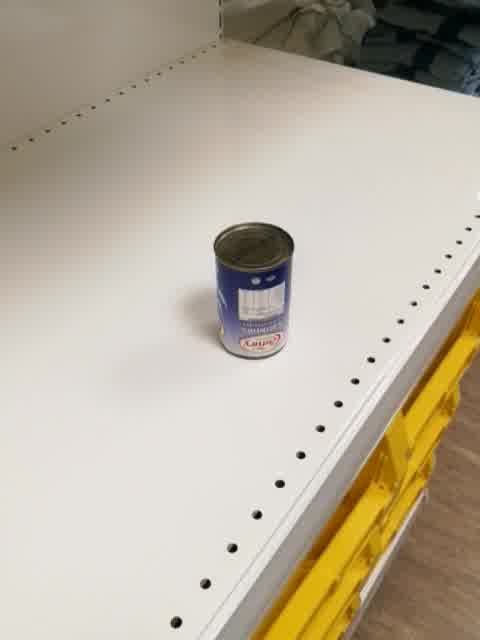sardine: (212, 221, 296, 361)
